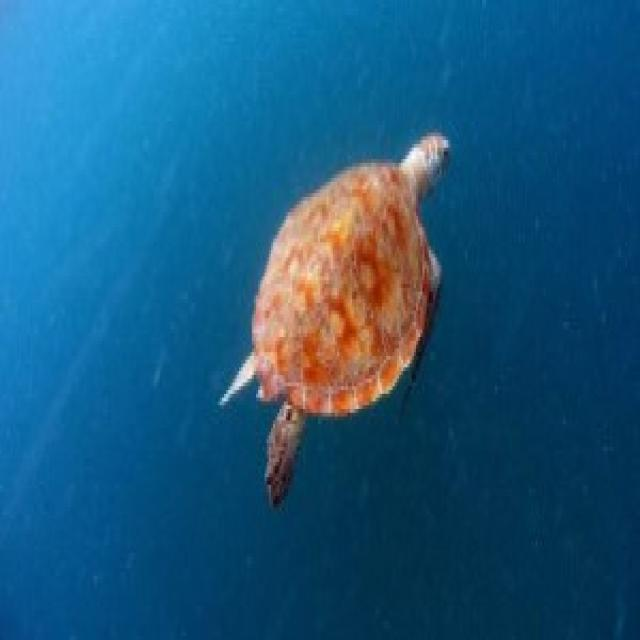Sea turtle: (218, 76, 468, 487)
